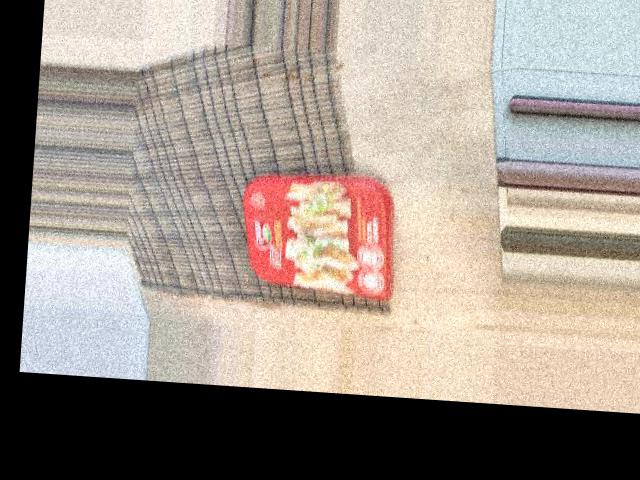cheese: (253, 37, 394, 228)
